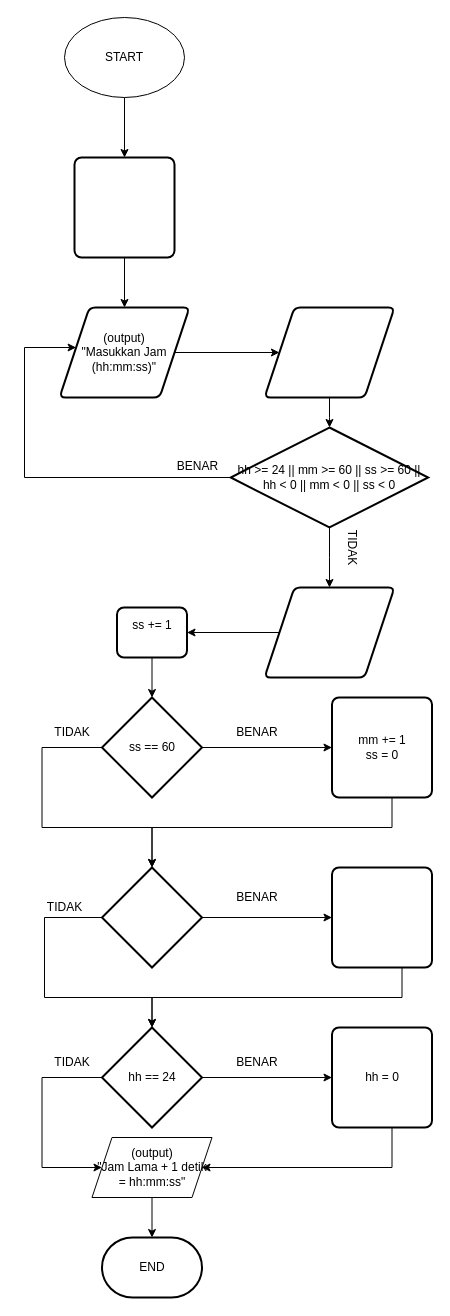
The diagram is 450 pixels wide and 1316 high, and some of its shapes have lost their labels. The centre of each missing label's shape, as x and y in pixels:
(input) hh:mm:ss: (x=329, y=352)
(output) "Jam Lama = hh:mm:ss": (x=329, y=632)
hh += 1 mm = 0: (x=381, y=917)
int hh int mm int ss: (x=124, y=207)
mm == 60: (x=151, y=917)
